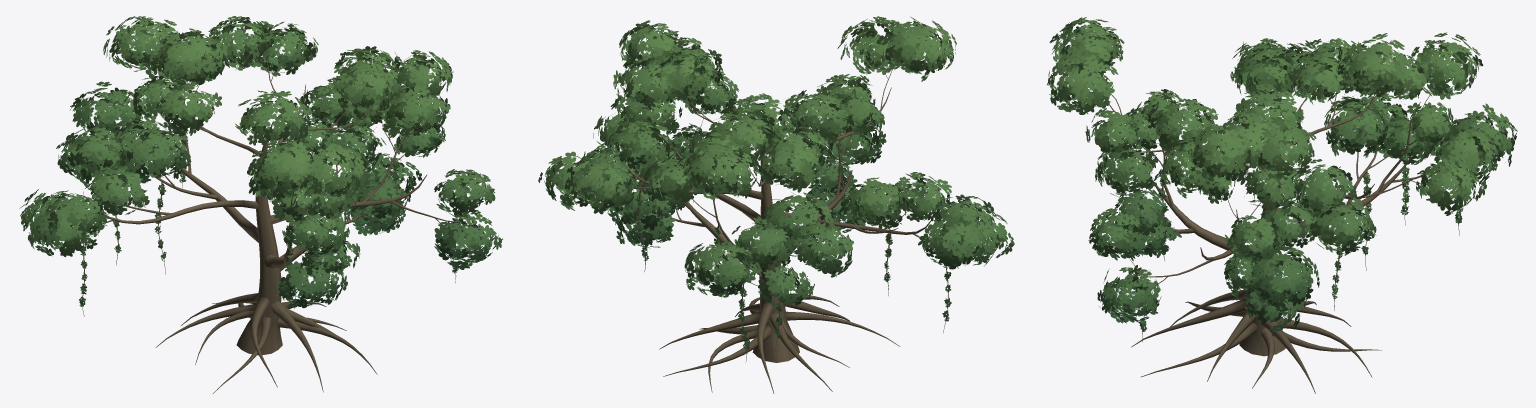
The model's file is tree.gltf.
The picture shows the model from 3 angles, left to right: view 1: azimuth 30°, elevation 25°; view 2: azimuth 150°, elevation 25°; view 3: azimuth 270°, elevation 25°; orthographic projection. The views are drawn at different scales.
Visible parts, largest first — view 1: Tree_LOD0; view 2: Tree_LOD0; view 3: Tree_LOD0.
Part boxes in pixels (x1,y1,x2,y2): Tree_LOD0: (19, 16, 502, 393); Tree_LOD0: (538, 16, 1014, 393); Tree_LOD0: (1047, 17, 1517, 393).
Size of the model in its own units: 21.94 by 14.16 by 20.35.
Materials: 2 (2 with a texture image).
